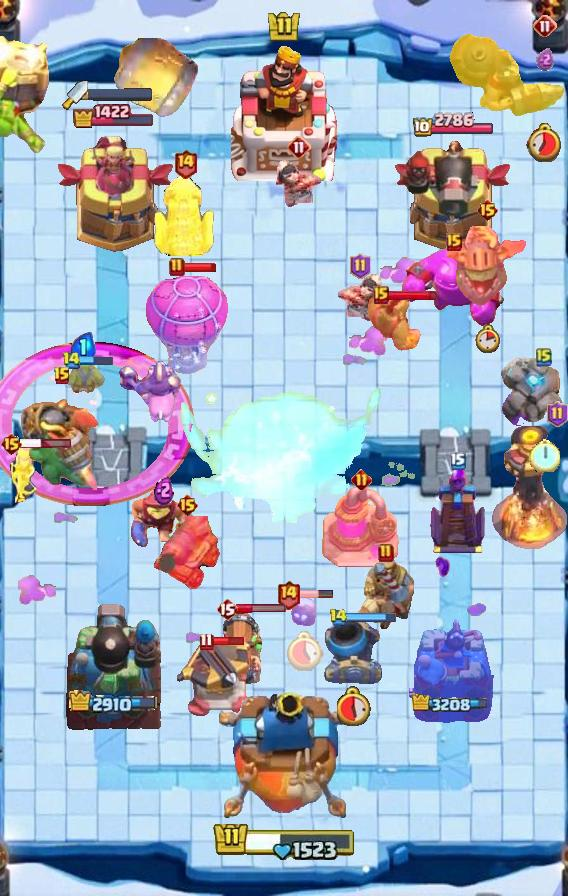bar: (52, 132, 176, 256)
battle-healer: (216, 610, 266, 698)
bomber: (290, 596, 318, 628)
cannon: (8, 441, 38, 505)
cannon-cart: (142, 269, 230, 377)
clock: (212, 818, 356, 860)
clone: (400, 246, 508, 328)
dirt: (111, 30, 201, 122)
electro-dragon: (490, 423, 568, 549)
electro-spirit: (70, 333, 96, 364), (154, 475, 174, 505), (536, 48, 554, 71)
elixir: (284, 629, 324, 670), (526, 122, 564, 162), (336, 686, 371, 726), (529, 438, 560, 472), (476, 323, 501, 352)
emote: (386, 289, 438, 302), (20, 439, 72, 450), (345, 612, 397, 623), (237, 602, 288, 613), (78, 354, 114, 366), (210, 635, 245, 647), (183, 262, 217, 273), (298, 589, 334, 599)
fireball: (128, 490, 200, 550)
flying-machine: (366, 291, 422, 351)
freeze: (117, 354, 181, 426)
goblin-brawler: (154, 172, 216, 256)
ice-spirit-evolution-symbol: (428, 463, 488, 555)
king-tower: (219, 692, 349, 826), (231, 43, 337, 181)
king-tower-bar: (88, 88, 152, 101)
knight-evolution: (0, 342, 194, 506)
lava-pup: (177, 640, 259, 720)
mega-knight: (159, 375, 381, 549)
musketeer: (324, 620, 384, 684)
night-witch: (20, 387, 104, 501), (446, 226, 528, 306)
pekka: (322, 487, 400, 569)
queen-tower: (409, 616, 497, 731)
ram-rider: (355, 555, 417, 633)
royal-giant-evolution: (153, 516, 221, 590)
selected: (69, 690, 159, 717), (413, 112, 496, 140), (72, 103, 156, 129), (412, 694, 494, 716)
skeleton-dragon: (273, 157, 325, 209), (334, 271, 386, 323)
text: (174, 149, 199, 180), (275, 578, 300, 609), (533, 14, 557, 38), (287, 135, 311, 159), (477, 198, 500, 222), (1, 432, 24, 456), (177, 493, 200, 517), (350, 253, 371, 279), (216, 597, 238, 621), (548, 401, 568, 427), (351, 469, 373, 490), (63, 351, 82, 370), (53, 366, 71, 386), (328, 609, 347, 627), (169, 257, 185, 277), (536, 347, 552, 367), (378, 543, 394, 563), (446, 233, 462, 251), (373, 286, 389, 304), (450, 452, 466, 470), (199, 633, 213, 651)
tower-bar: (392, 138, 514, 256), (64, 601, 164, 731)
valkyrie-evolution: (498, 358, 568, 426)
wizard: (448, 30, 568, 120)
x-bow: (1, 33, 56, 159)
zap: (61, 356, 105, 398)
